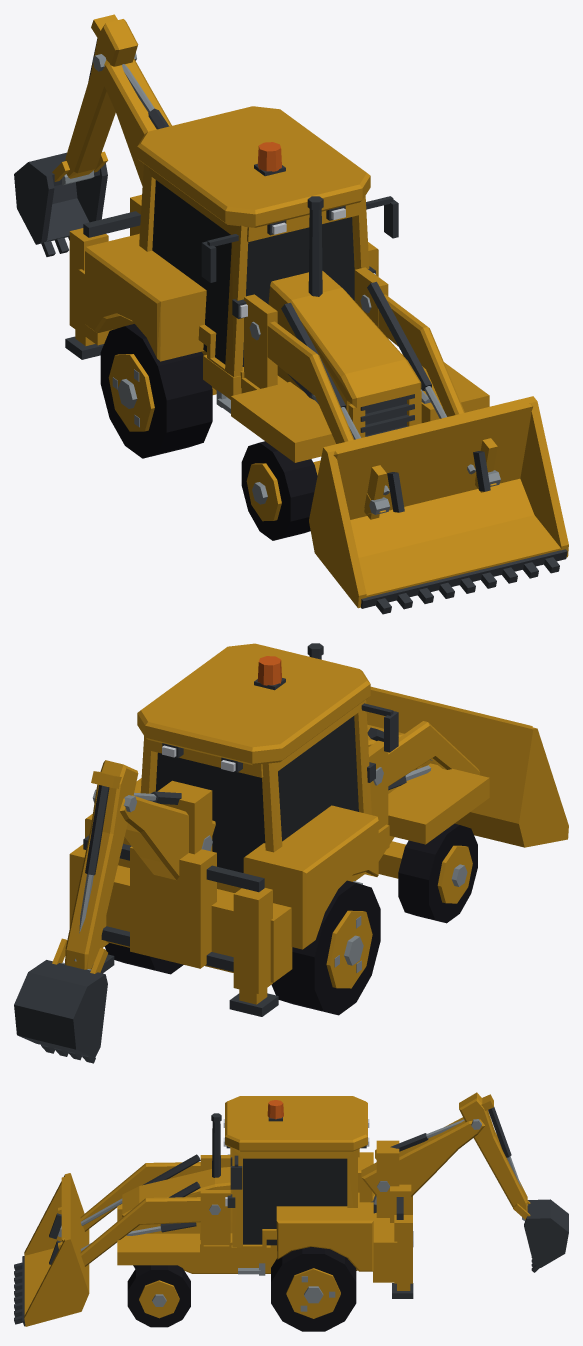
Rendered from backhoe-loader.glb.
3 views of the same model, one above another, from view 1: azimuth 30°, elevation 25°; view 2: azimuth 150°, elevation 25°; view 3: azimuth 270°, elevation 25° (orthographic). The views are drawn at different scales.
Visible parts, largest first — view 1: machine; view 2: machine; view 3: machine.
Part boxes in pixels (x1,y1,x2,y2): machine: (14,14,568,614); machine: (14,643,568,1063); machine: (14,1092,568,1331).
Bounding box in the file's own units: 2.42 × 3.13 × 7.77.
